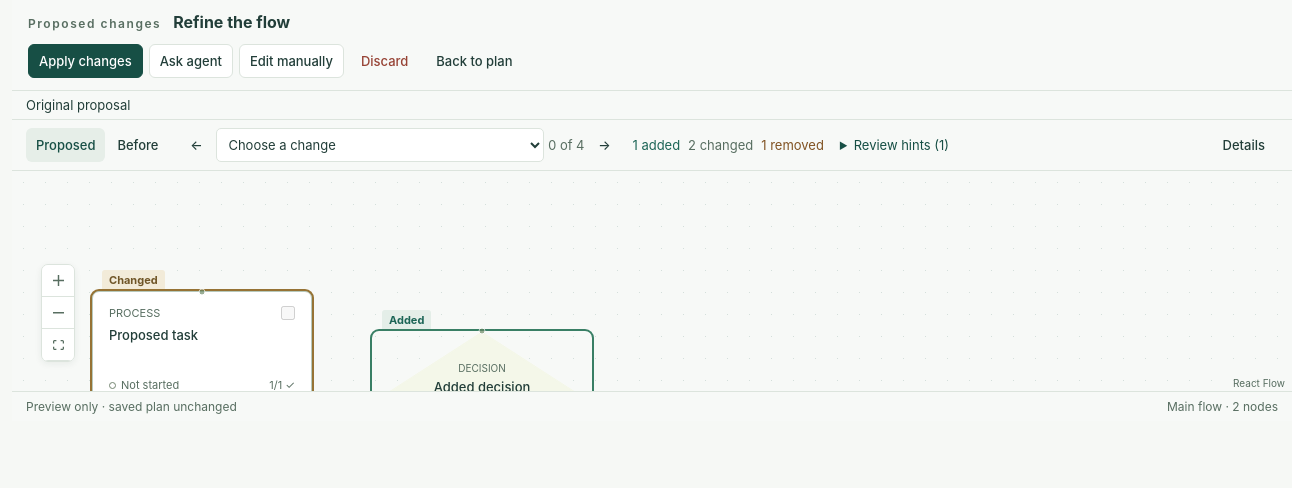
Test case: registered proposal leave guard › prevents replacement during Apply then retains durable recovery when leaving
Click the button "Apply changes".
click(85, 61)  # box [28,44,143,78]
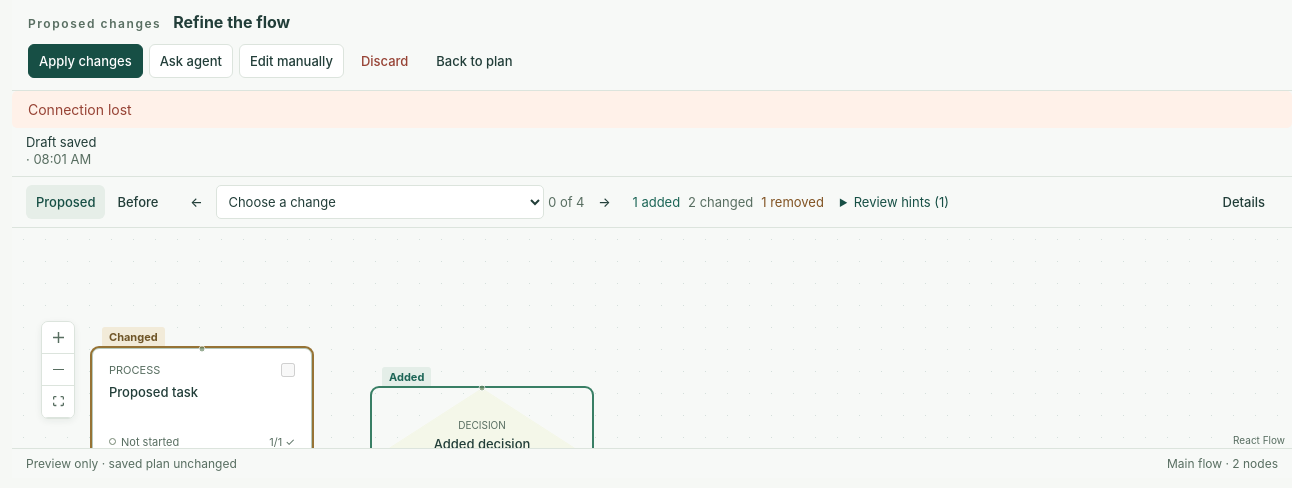
Expected: the text "Connection lost" is shown, [12,91,1291,128]
